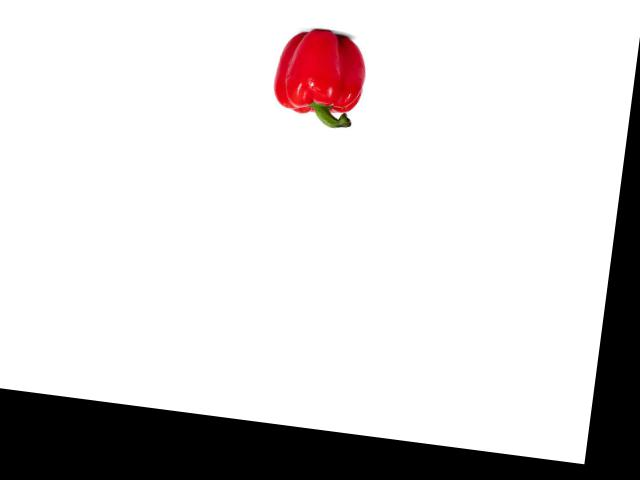bell_pepper: (264, 24, 372, 133)
